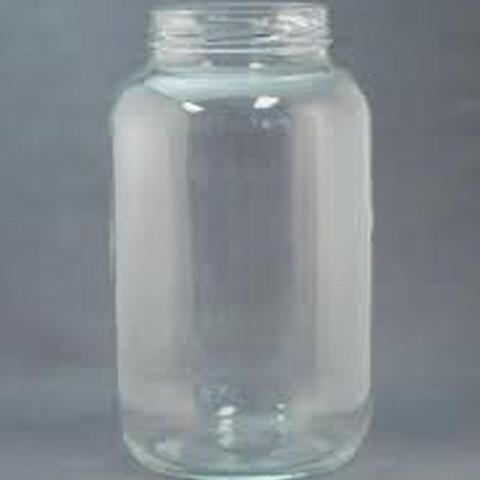Rec_Glass: (106, 1, 376, 477)
